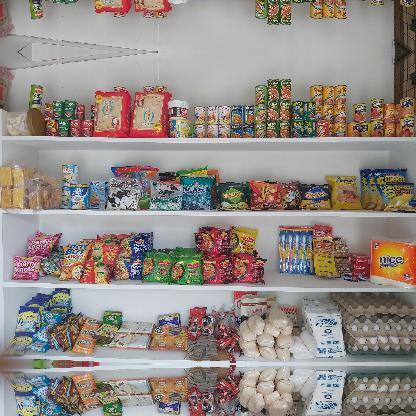Lady-s-Choice: (6, 108, 44, 136)
